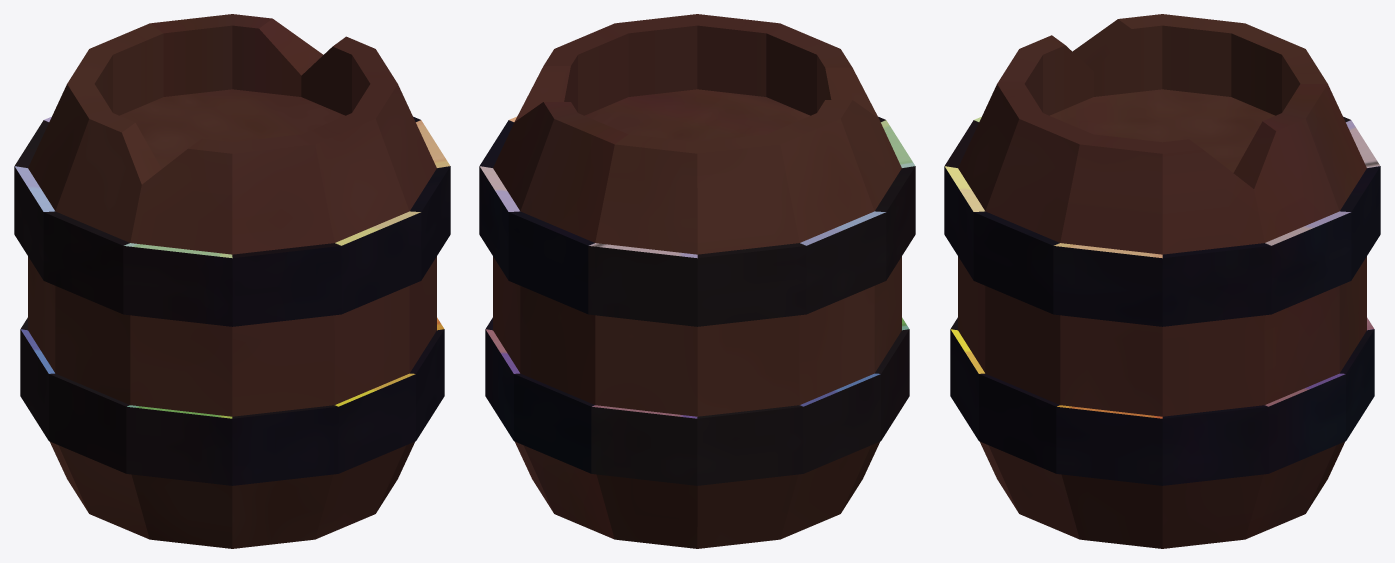
The model's file is Barril.obj.
The picture shows the model from 3 angles, left to right: view 1: azimuth 30°, elevation 25°; view 2: azimuth 150°, elevation 25°; view 3: azimuth 270°, elevation 25°; orthographic projection.
Parts seen in each view (by area): view 1: Barril.004_Cilindro; view 2: Barril.004_Cilindro; view 3: Barril.004_Cilindro.
Boxes of the visible parts, x1,y1,x2,y2 form: Barril.004_Cilindro: (14, 14, 450, 548); Barril.004_Cilindro: (479, 14, 915, 548); Barril.004_Cilindro: (944, 14, 1380, 548).
Bounding box in the file's own units: 1.32 × 1.32 × 1.32.
1 material, 1 textured.
